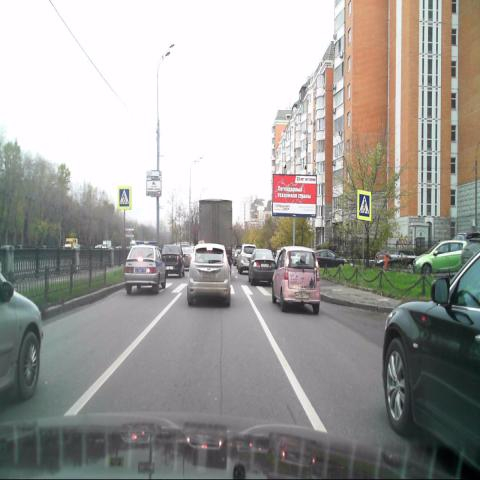5_19_1: (356, 189, 372, 221), (118, 186, 131, 209)
